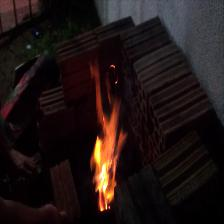fire: (73, 45, 135, 221)
